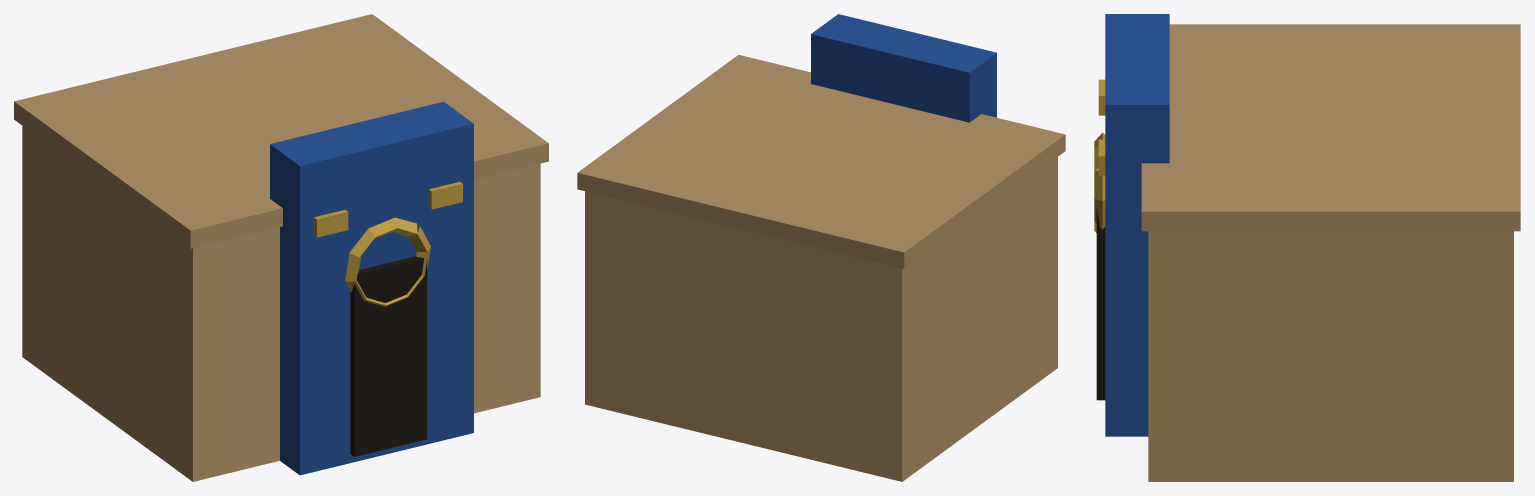
The model's file is minotaur_house_c.glb.
The picture shows the model from 3 angles, left to right: view 1: azimuth 30°, elevation 25°; view 2: azimuth 150°, elevation 25°; view 3: azimuth 270°, elevation 25°; orthographic projection. The views are drawn at different scales.
Visible parts, largest first — view 1: minotaur_house_c; view 2: minotaur_house_c; view 3: minotaur_house_c.
Part boxes in pixels (x1,y1,x2,y2): minotaur_house_c: (14,14,548,481); minotaur_house_c: (577,14,1065,481); minotaur_house_c: (1094,14,1520,481).
Size of the model in its own units: 2.06 by 1.7 by 1.98.
